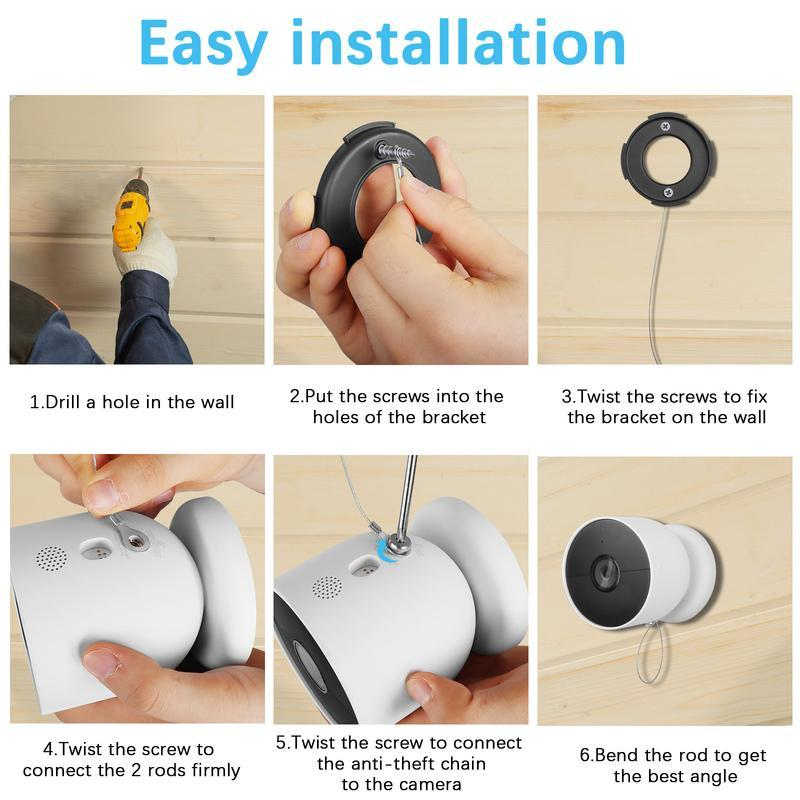nest: (558, 506, 721, 631)
